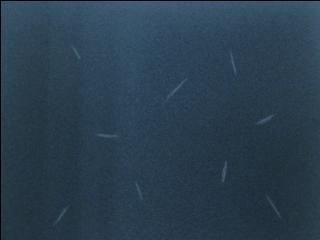scratch: (49, 202, 73, 229), (166, 77, 188, 101), (253, 111, 280, 129), (265, 193, 283, 219), (91, 128, 122, 143), (217, 155, 231, 187), (227, 47, 240, 81), (130, 178, 147, 204), (68, 41, 85, 62)
